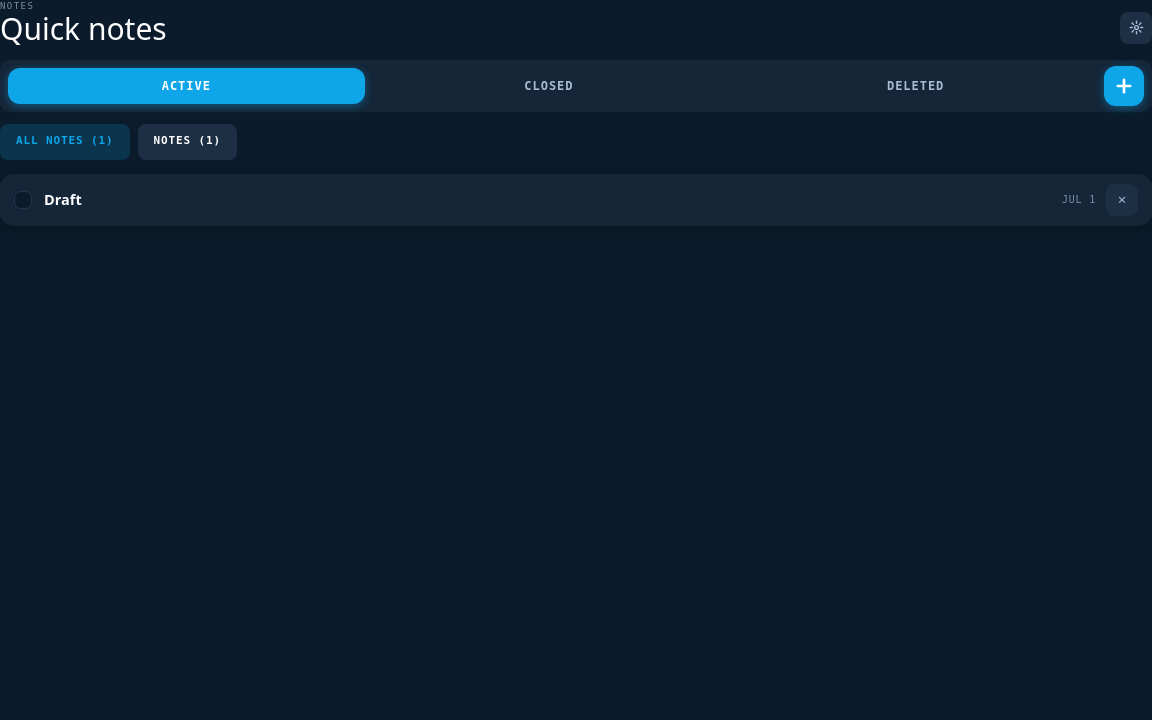
Test: NotesPage › keeps the editor open with an error when the prompt save fails
Click the text "Draft". click: (63, 199)
box: [44,189,82,209]
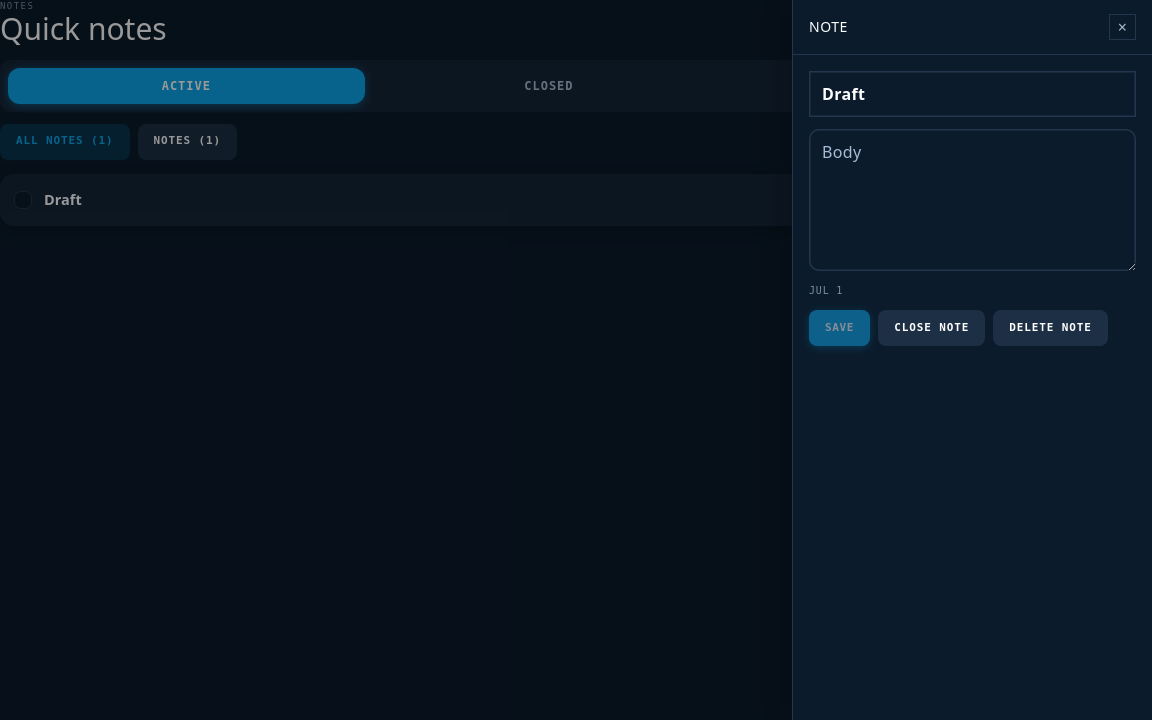
Replace the text in the field named "Note title" with "Renamed". click: (972, 94)
box: [809,71,1136,117]
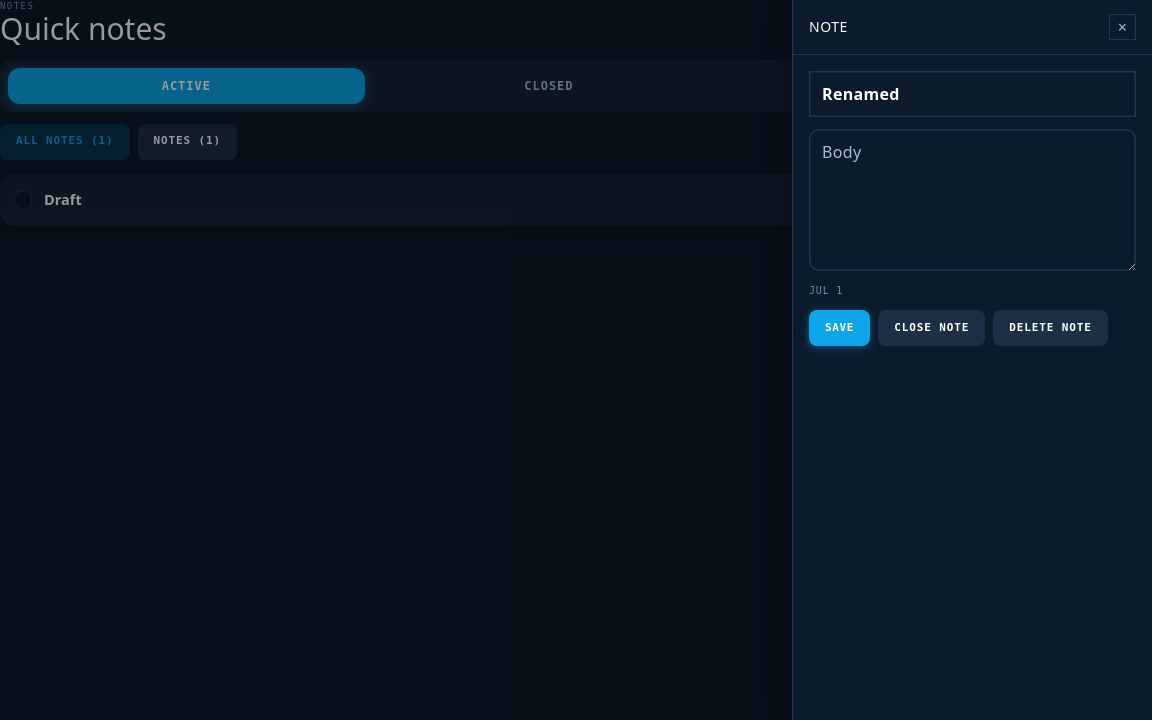
Click the button named "Close". click: (1122, 27)
box: [1109,14,1136,40]
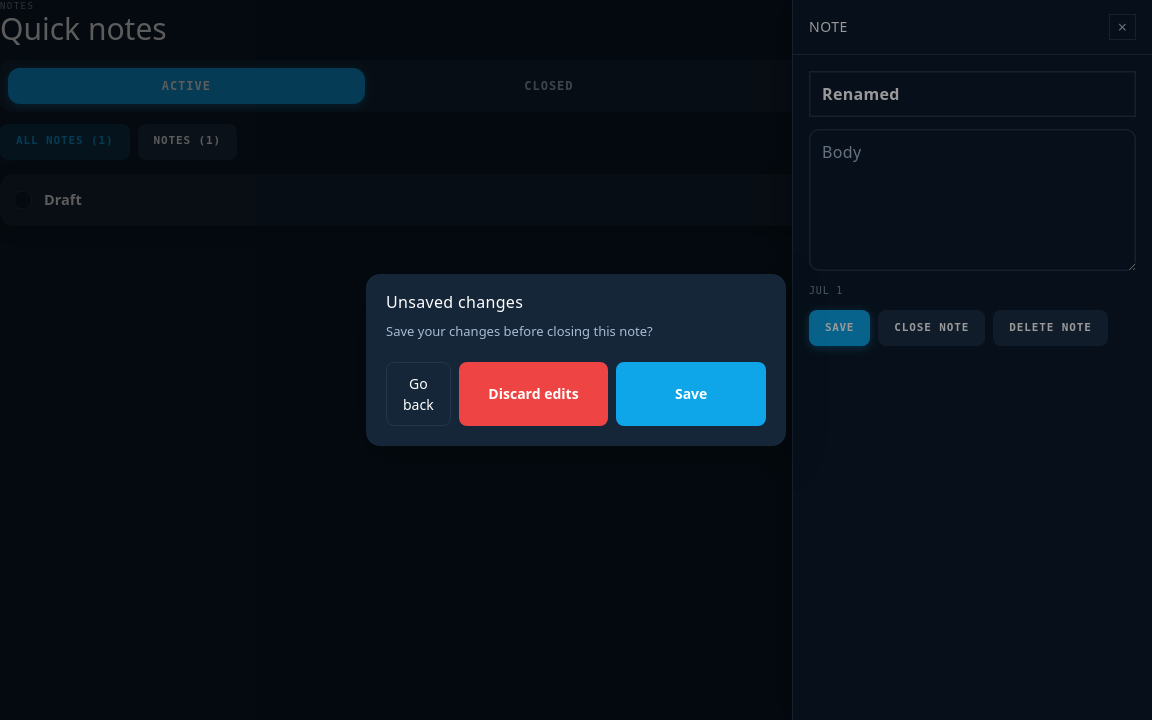
Click the button "Save". click: (691, 394)
box: [616,362,766,426]
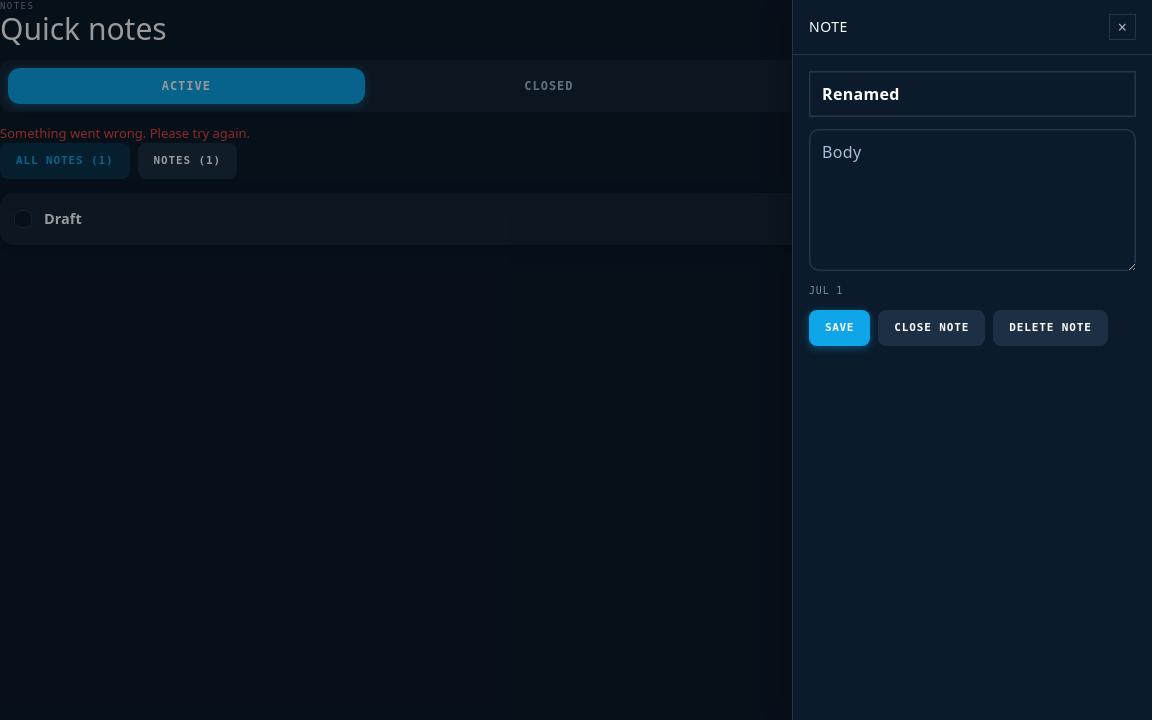
Result: the message "Something went wrong. Please try again." is shown at [0,124,250,142]
